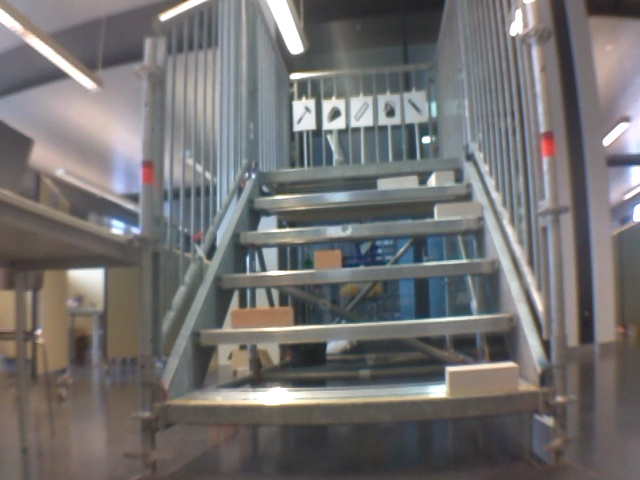brick: (445, 362, 519, 397), (232, 307, 292, 329), (434, 202, 480, 219), (377, 175, 416, 190), (314, 249, 340, 269), (428, 170, 454, 185)
bucket: (382, 97, 399, 120)
edge: (167, 390, 536, 425), (193, 314, 517, 343), (218, 259, 501, 287), (232, 216, 486, 243), (250, 184, 473, 207), (259, 158, 457, 179)
hammer: (294, 104, 313, 126)
pencil: (404, 97, 425, 120)
ruler: (351, 100, 371, 124)
stairs: (136, 10, 573, 463)
steps: (162, 155, 546, 435)
taco: (326, 104, 343, 126)
